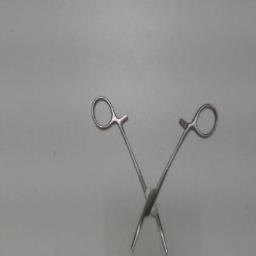Crile Artery Forceps: (88, 94, 224, 254)
